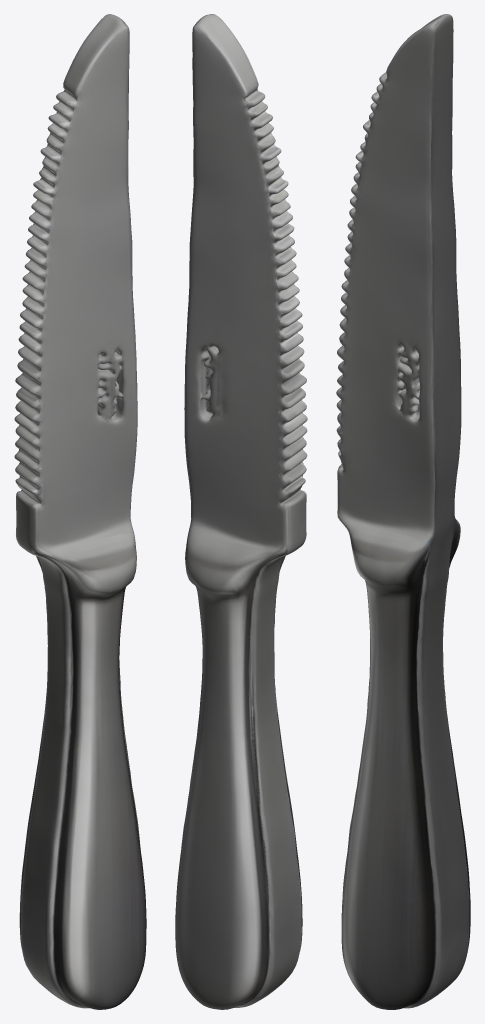
Rendered from model_steak_knife.glb.
3 renders of one model, left to right at view 1: azimuth 30°, elevation 25°; view 2: azimuth 150°, elevation 25°; view 3: azimuth 330°, elevation 25°, orthographic.
Visible parts, largest first — view 1: tripo_node_2511b549-a9fb-4f1f-afc6-7e8f5bf9fa8d; view 2: tripo_node_2511b549-a9fb-4f1f-afc6-7e8f5bf9fa8d; view 3: tripo_node_2511b549-a9fb-4f1f-afc6-7e8f5bf9fa8d.
Part boxes in pixels (x1=…): tripo_node_2511b549-a9fb-4f1f-afc6-7e8f5bf9fa8d: x1=14, y1=14, x2=146, y2=1009; tripo_node_2511b549-a9fb-4f1f-afc6-7e8f5bf9fa8d: x1=175, y1=14, x2=307, y2=1009; tripo_node_2511b549-a9fb-4f1f-afc6-7e8f5bf9fa8d: x1=336, y1=14, x2=470, y2=1009.
Size of the model in its own units: 0.119 by 0.9998 by 0.1174.
Materials: 1 (1 with a texture image).
